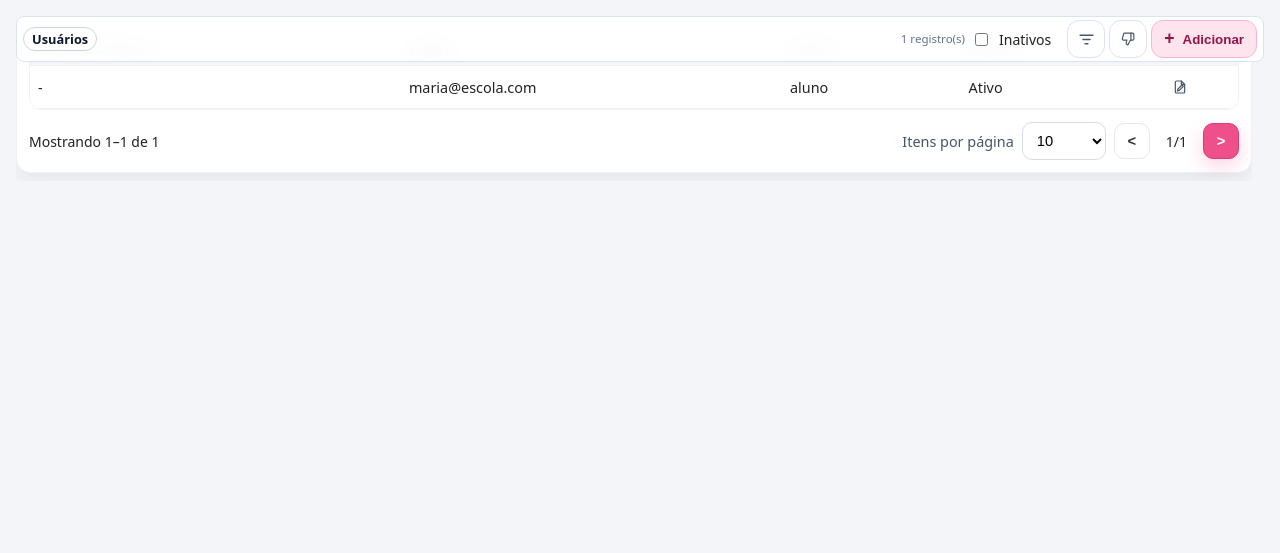
Scenario: Users breadcrumb › Usuários expõe no drawer todos os critérios do formulário editável
Expected: the text "maria@escola.com" is shown, [401, 66, 782, 108]
Click the button named "Abrir filtros" at (1086, 39), box [1067, 20, 1105, 58]
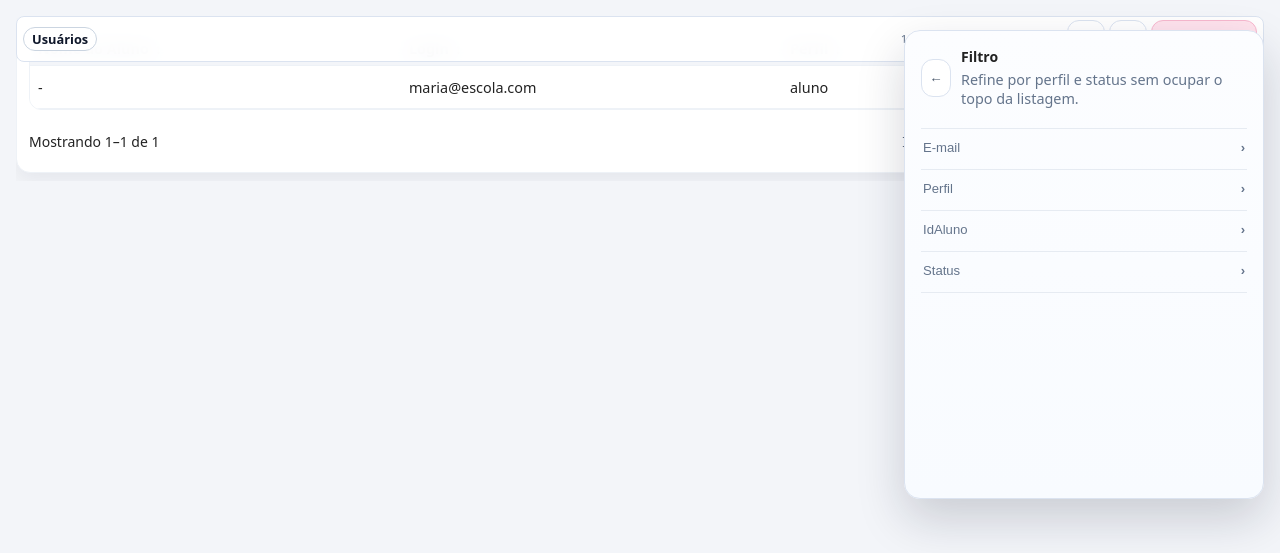
Expected: the button "E-mail ›" is shown, [921, 129, 1247, 170]
Expected: the button "Perfil ›" is shown, [921, 170, 1247, 211]
Expected: the button "IdAluno ›" is shown, [921, 211, 1247, 252]
